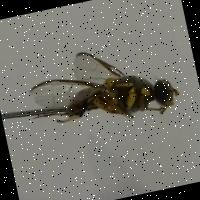Oriental-fruit-fly: (8, 28, 192, 158)
